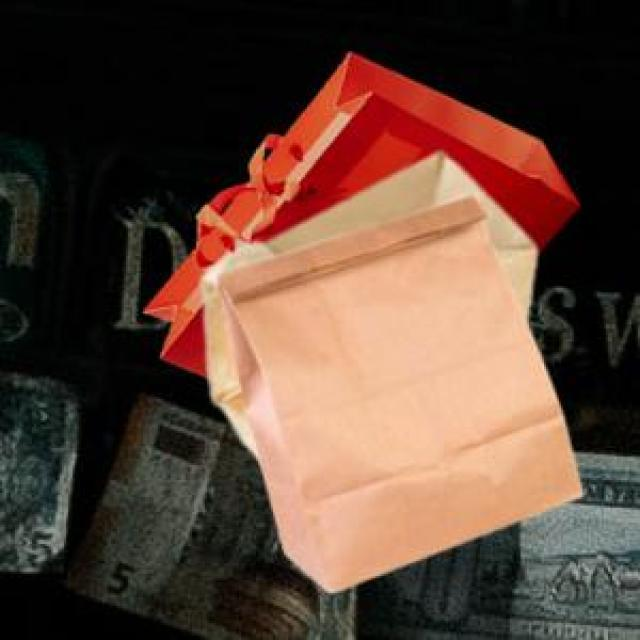paper: (213, 192, 578, 589), (141, 49, 576, 373), (198, 149, 531, 452)
